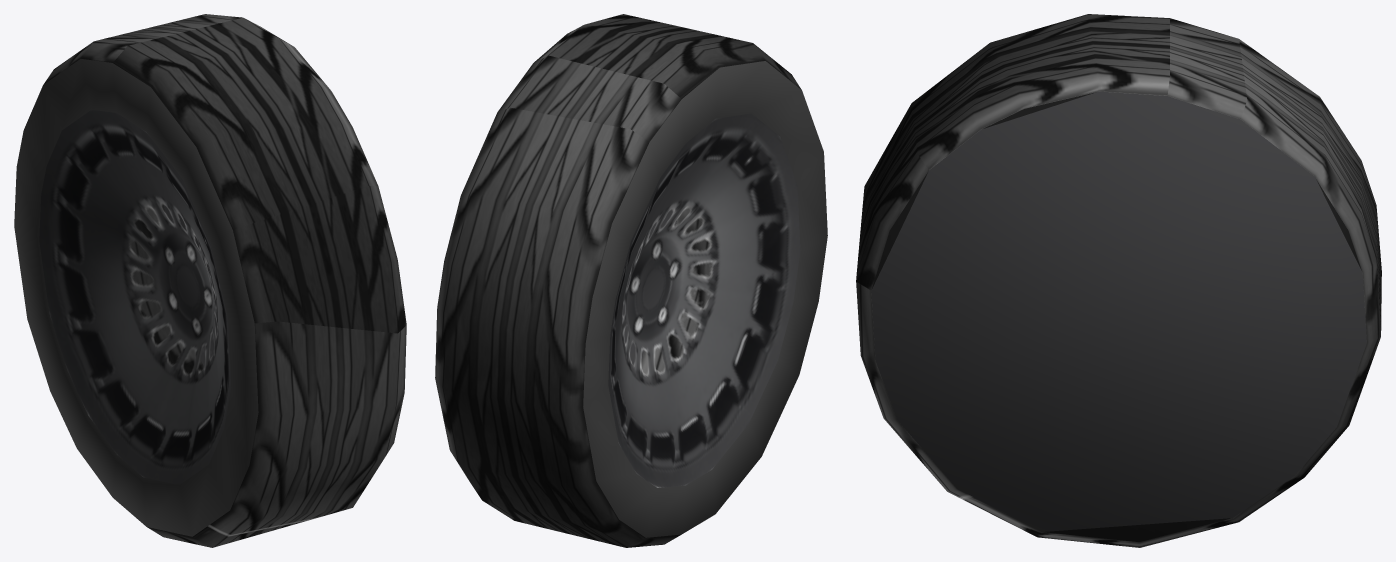
The model's file is Wheel1.glb.
3 views of the same model, side by side, from view 1: azimuth 30°, elevation 25°; view 2: azimuth 150°, elevation 25°; view 3: azimuth 270°, elevation 25° (orthographic).
Visible parts, largest first — view 1: Cylinder; view 2: Cylinder; view 3: Cylinder.
Part boxes in pixels (x1,y1,x2,y2): Cylinder: (14,14,406,547); Cylinder: (435,14,827,547); Cylinder: (856,14,1381,547).
Bounding box in the file's own units: 0.231 × 0.6998 × 0.6986.
Materials: 1 (1 with a texture image).
